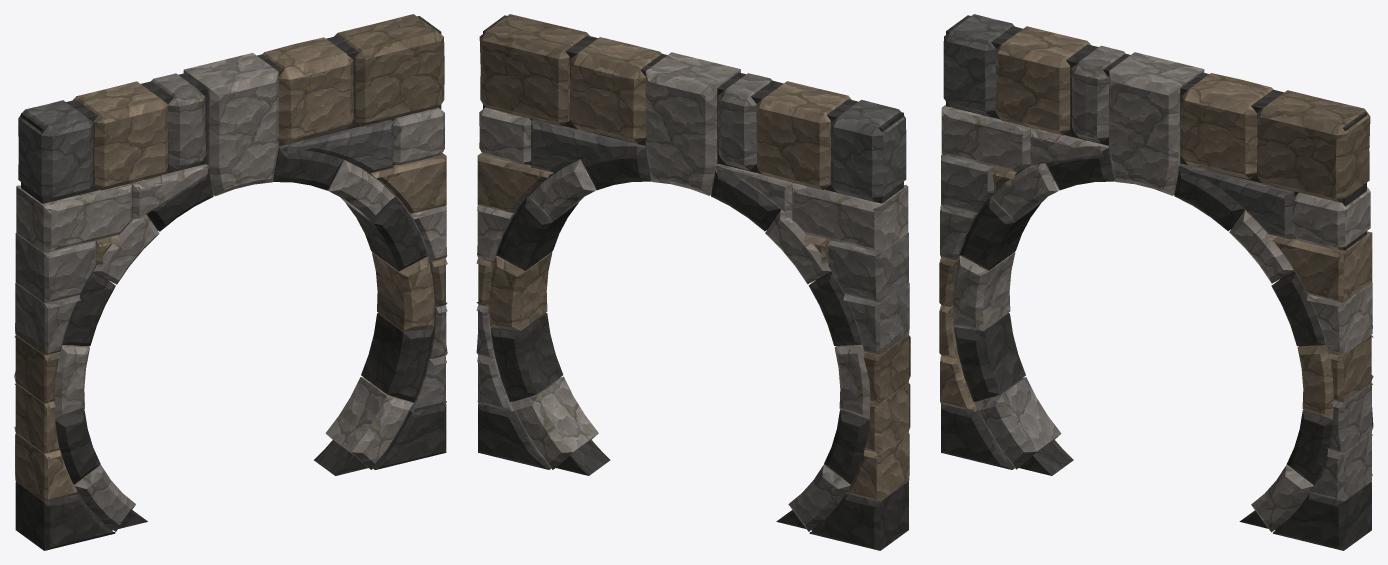
The model's file is doorway__cut_stone.glb.
The picture shows the model from 3 angles, left to right: view 1: azimuth 30°, elevation 25°; view 2: azimuth 150°, elevation 25°; view 3: azimuth 330°, elevation 25°; orthographic projection.
Visible parts, largest first — view 1: model; view 2: model; view 3: model.
Boxes of the visible parts, bbox=[...] form: model: bbox=[14, 14, 447, 550]; model: bbox=[476, 14, 910, 550]; model: bbox=[939, 14, 1373, 550].
Bounding box in the file's own units: 1.99 × 1.99 × 0.2836.
6 materials, 6 textured.
